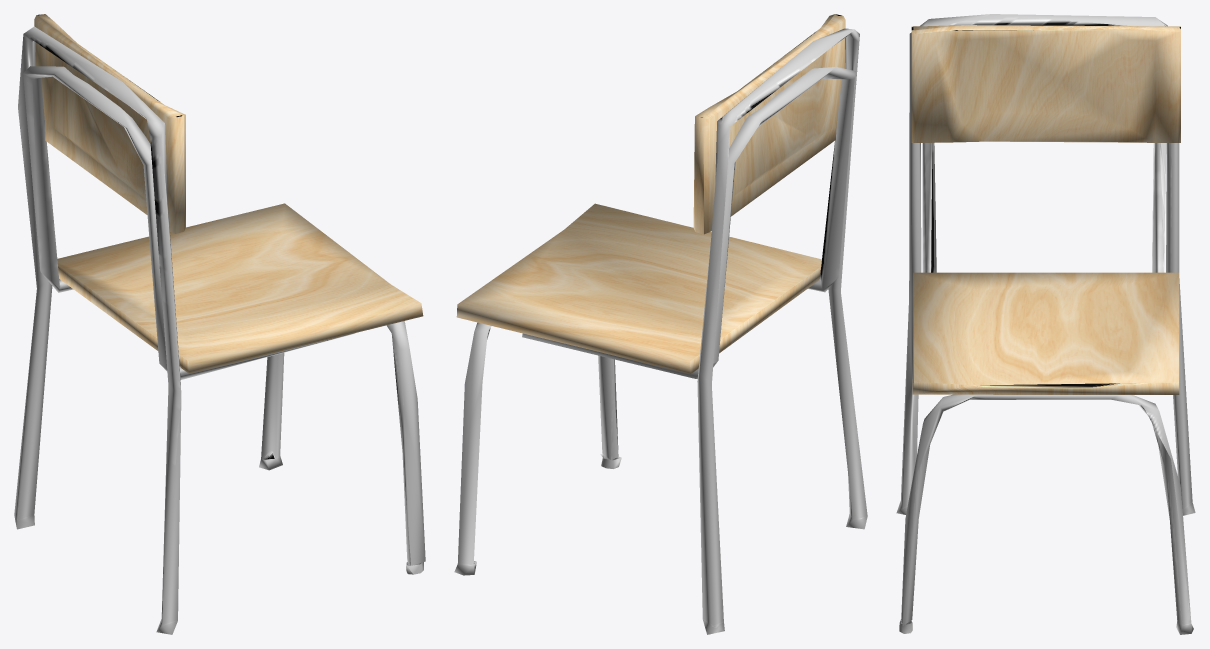
Rendered from Chair_new.fbx.
3 views of the same model, side by side, from view 1: azimuth 30°, elevation 25°; view 2: azimuth 150°, elevation 25°; view 3: azimuth 270°, elevation 25° (orthographic). The views are drawn at different scales.
Visible parts, largest first — view 1: ASIENTO1, PATAS_T, RESPALDO1, EXTRA, PATAS_D; view 2: ASIENTO1, PATAS_T, RESPALDO1, EXTRA, PATAS_D; view 3: ASIENTO1, RESPALDO1, PATAS_T, PATAS_D, EXTRA.
Part boxes in pixels (x1,y1,x2,y2): ASIENTO1: (57,203,423,373); PATAS_T: (14,26,181,634); RESPALDO1: (34,14,185,233); EXTRA: (23,66,355,379); PATAS_D: (259,321,425,574); ASIENTO1: (456,203,821,373); PATAS_T: (697,28,867,634); RESPALDO1: (693,14,845,234); EXTRA: (522,67,855,378); PATAS_D: (454,322,621,575); ASIENTO1: (912,272,1179,394); RESPALDO1: (911,25,1180,142); PATAS_T: (896,14,1195,515); PATAS_D: (899,394,1193,634); EXTRA: (922,143,1166,272).
Bounding box in the file's own units: 121 × 221 × 120.
